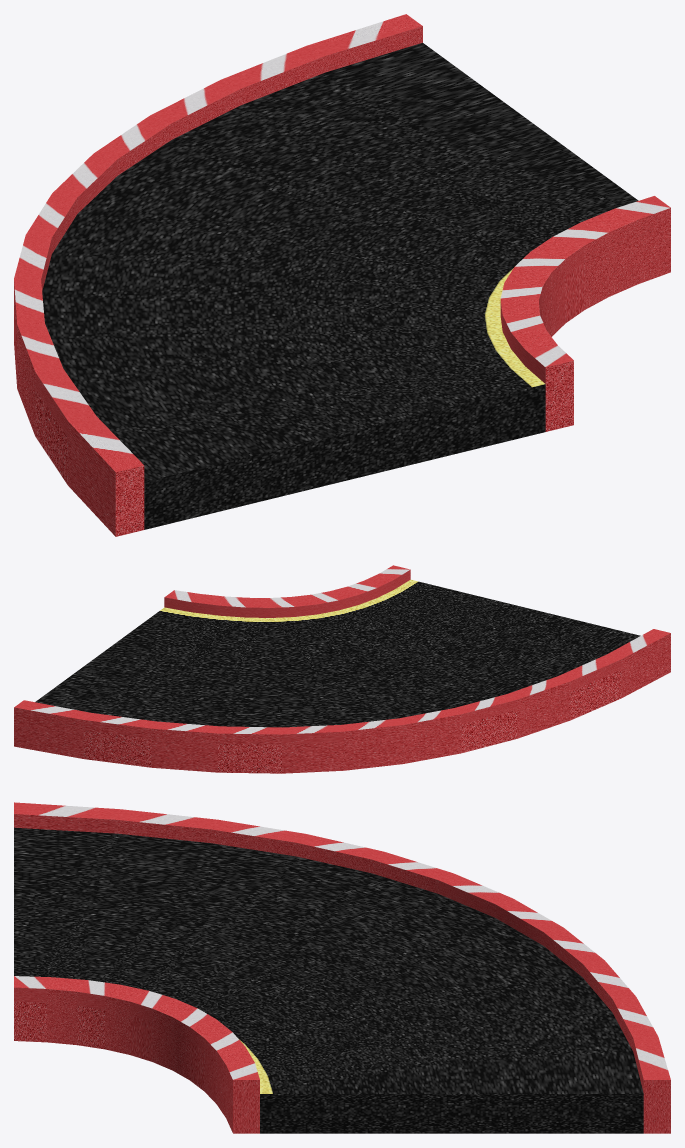
Rendered from Track - Curve (Corner pivot).fbx.
3 renders of one model, top to bottom at view 1: azimuth 30°, elevation 25°; view 2: azimuth 150°, elevation 25°; view 3: azimuth 270°, elevation 25°, orthographic. The views are drawn at different scales.
Parts seen in each view (by area): view 1: Track - Curve piece (Corner pivot); view 2: Track - Curve piece (Corner pivot); view 3: Track - Curve piece (Corner pivot).
Part boxes in pixels (<box>): Track - Curve piece (Corner pivot): <box>14,14,670,536</box>; Track - Curve piece (Corner pivot): <box>14,565,670,773</box>; Track - Curve piece (Corner pivot): <box>14,802,670,1133</box>.
Bounding box in the file's own units: 75 × 6.73 × 75.
